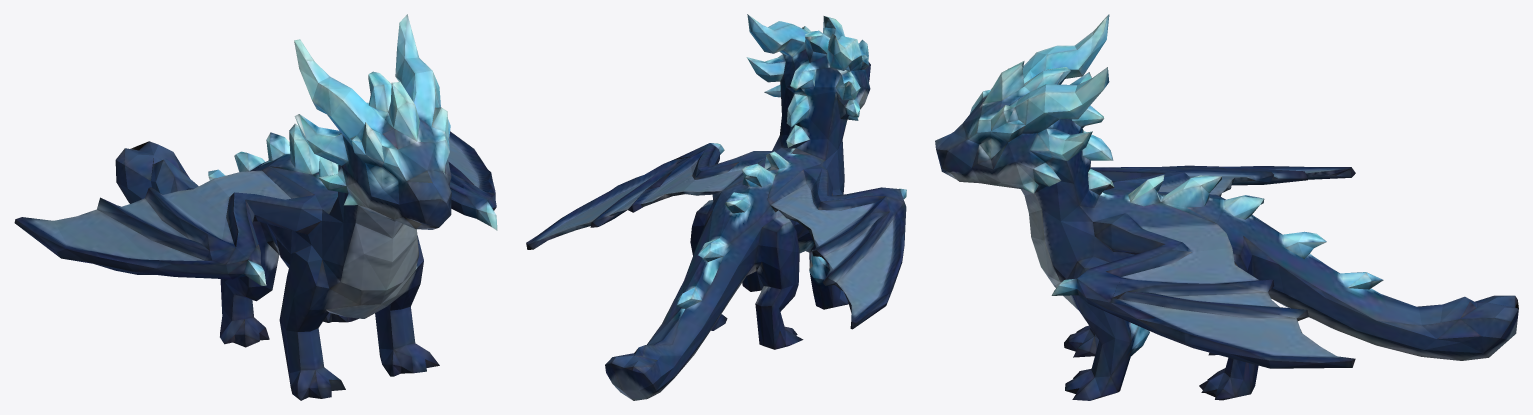
Rendered from foe_rimeDrakeling.glb.
3 views of the same model, side by side, from view 1: azimuth 30°, elevation 25°; view 2: azimuth 150°, elevation 25°; view 3: azimuth 270°, elevation 25° (orthographic). The views are drawn at different scales.
Parts seen in each view (by area): view 1: tripo_node_a7cb03c1-855c-433a-bef8-67b1cda9b8df.001; view 2: tripo_node_a7cb03c1-855c-433a-bef8-67b1cda9b8df.001; view 3: tripo_node_a7cb03c1-855c-433a-bef8-67b1cda9b8df.001.
Boxes of the visible parts, x1=… form: tripo_node_a7cb03c1-855c-433a-bef8-67b1cda9b8df.001: x1=14, y1=14, x2=497, y2=400; tripo_node_a7cb03c1-855c-433a-bef8-67b1cda9b8df.001: x1=526, y1=14, x2=906, y2=400; tripo_node_a7cb03c1-855c-433a-bef8-67b1cda9b8df.001: x1=935, y1=14, x2=1518, y2=400.
Bounding box in the file's own units: 0.7891 × 0.6247 × 1.
Materials: 1 (1 with a texture image).
